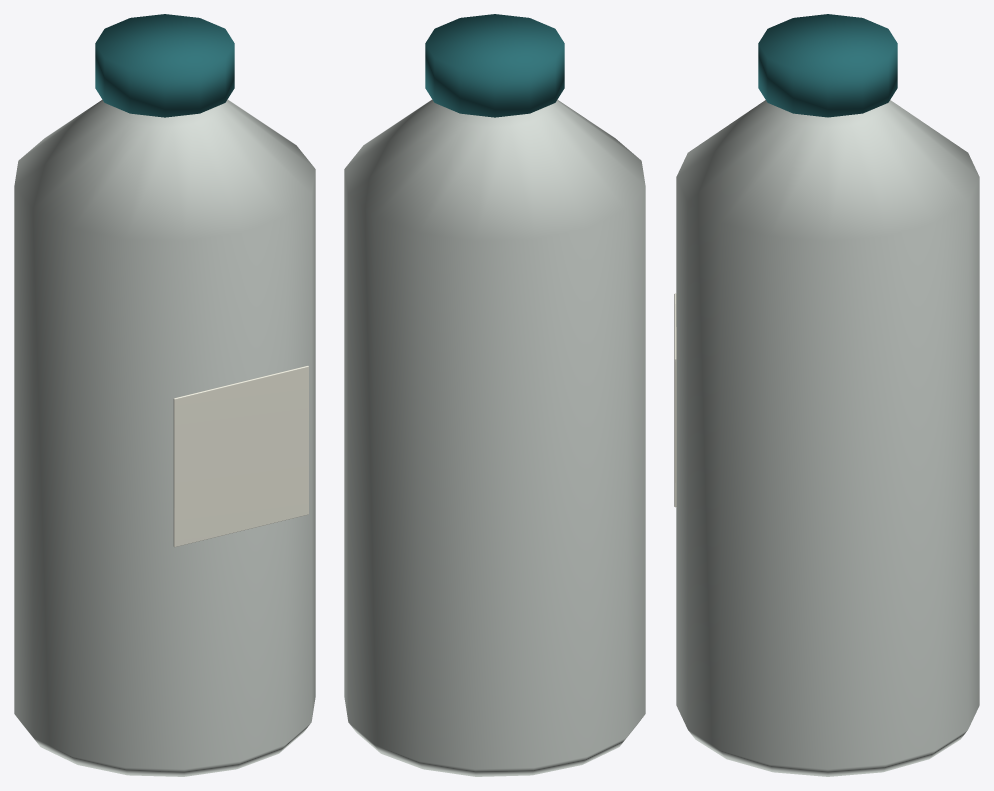
The model's file is VLAB_waste.fbx.
3 views of the same model, side by side, from view 1: azimuth 30°, elevation 25°; view 2: azimuth 150°, elevation 25°; view 3: azimuth 270°, elevation 25° (orthographic).
Parts seen in each view (by area): view 1: VLAB_waste_Body_VIS, VLAB_waste_Label_VIS, VLAB_waste_Cap_VIS; view 2: VLAB_waste_Body_VIS, VLAB_waste_Cap_VIS; view 3: VLAB_waste_Body_VIS, VLAB_waste_Cap_VIS, VLAB_waste_Label_VIS.
Part boxes in pixels (<box>): VLAB_waste_Body_VIS: <box>14,99,315,776</box>; VLAB_waste_Label_VIS: <box>173,365,308,547</box>; VLAB_waste_Cap_VIS: <box>95,14,234,117</box>; VLAB_waste_Body_VIS: <box>344,99,645,776</box>; VLAB_waste_Cap_VIS: <box>425,14,564,117</box>; VLAB_waste_Body_VIS: <box>676,100,979,776</box>; VLAB_waste_Cap_VIS: <box>758,14,897,117</box>; VLAB_waste_Label_VIS: <box>674,293,676,507</box>.
Bounding box in the file's own units: 0.074 × 0.181 × 0.0745.
